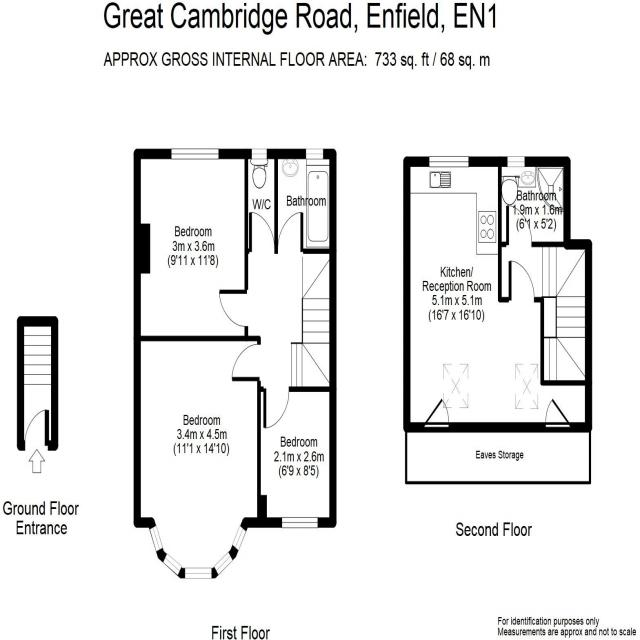DOOR: (262, 385, 291, 431), (505, 204, 534, 249), (508, 259, 536, 304), (218, 288, 249, 328), (231, 342, 261, 383), (248, 210, 276, 253), (276, 211, 304, 254), (421, 396, 450, 430), (545, 396, 574, 429)
ROOM: (402, 155, 592, 433), (131, 334, 267, 581), (132, 146, 249, 343), (255, 384, 338, 529)
WINDOW: (428, 155, 470, 169), (171, 148, 219, 160), (213, 550, 234, 576), (231, 523, 248, 553), (162, 553, 183, 577), (281, 516, 318, 529), (148, 524, 164, 553), (184, 566, 213, 579), (506, 155, 526, 168), (305, 148, 324, 161), (251, 148, 268, 160)
